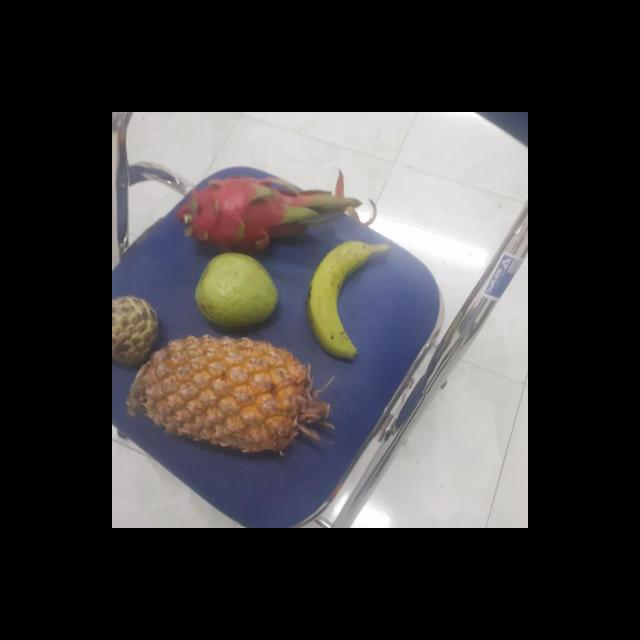Sakya fruit: (112, 297, 163, 369)
banana: (307, 243, 385, 356)
guava: (192, 249, 282, 329)
pineapple: (137, 335, 320, 451)
pitaya: (184, 168, 306, 258)
